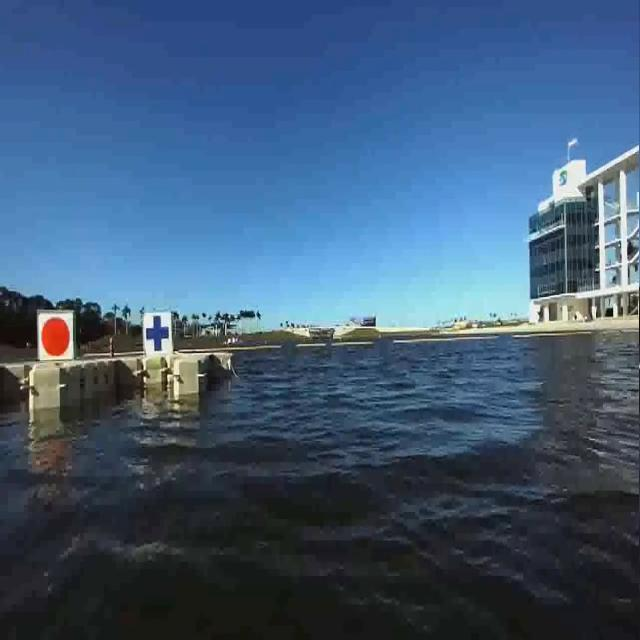blue-cross: (140, 311, 178, 363)
red-dot: (33, 301, 77, 367)
